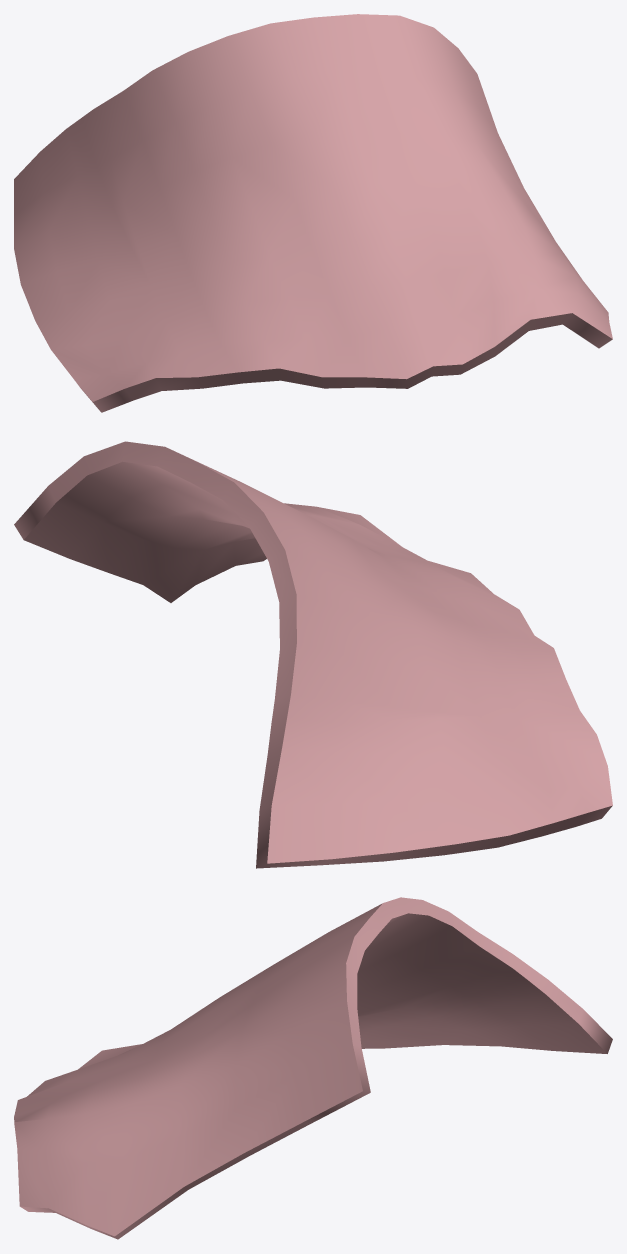
3 views of the same model, one above another, from view 1: azimuth 30°, elevation 25°; view 2: azimuth 150°, elevation 25°; view 3: azimuth 270°, elevation 25° (orthographic). The views are drawn at different scales.
Visible parts, largest first — view 1: ZA_fc030eed5a7753d6; view 2: ZA_fc030eed5a7753d6; view 3: ZA_fc030eed5a7753d6.
Part boxes in pixels (x1=…): ZA_fc030eed5a7753d6: x1=14, y1=14, x2=612, y2=412; ZA_fc030eed5a7753d6: x1=14, y1=441, x2=612, y2=868; ZA_fc030eed5a7753d6: x1=14, y1=897, x2=612, y2=1239.
Size of the model in its own units: 0.0863 by 0.0517 by 0.0995.
